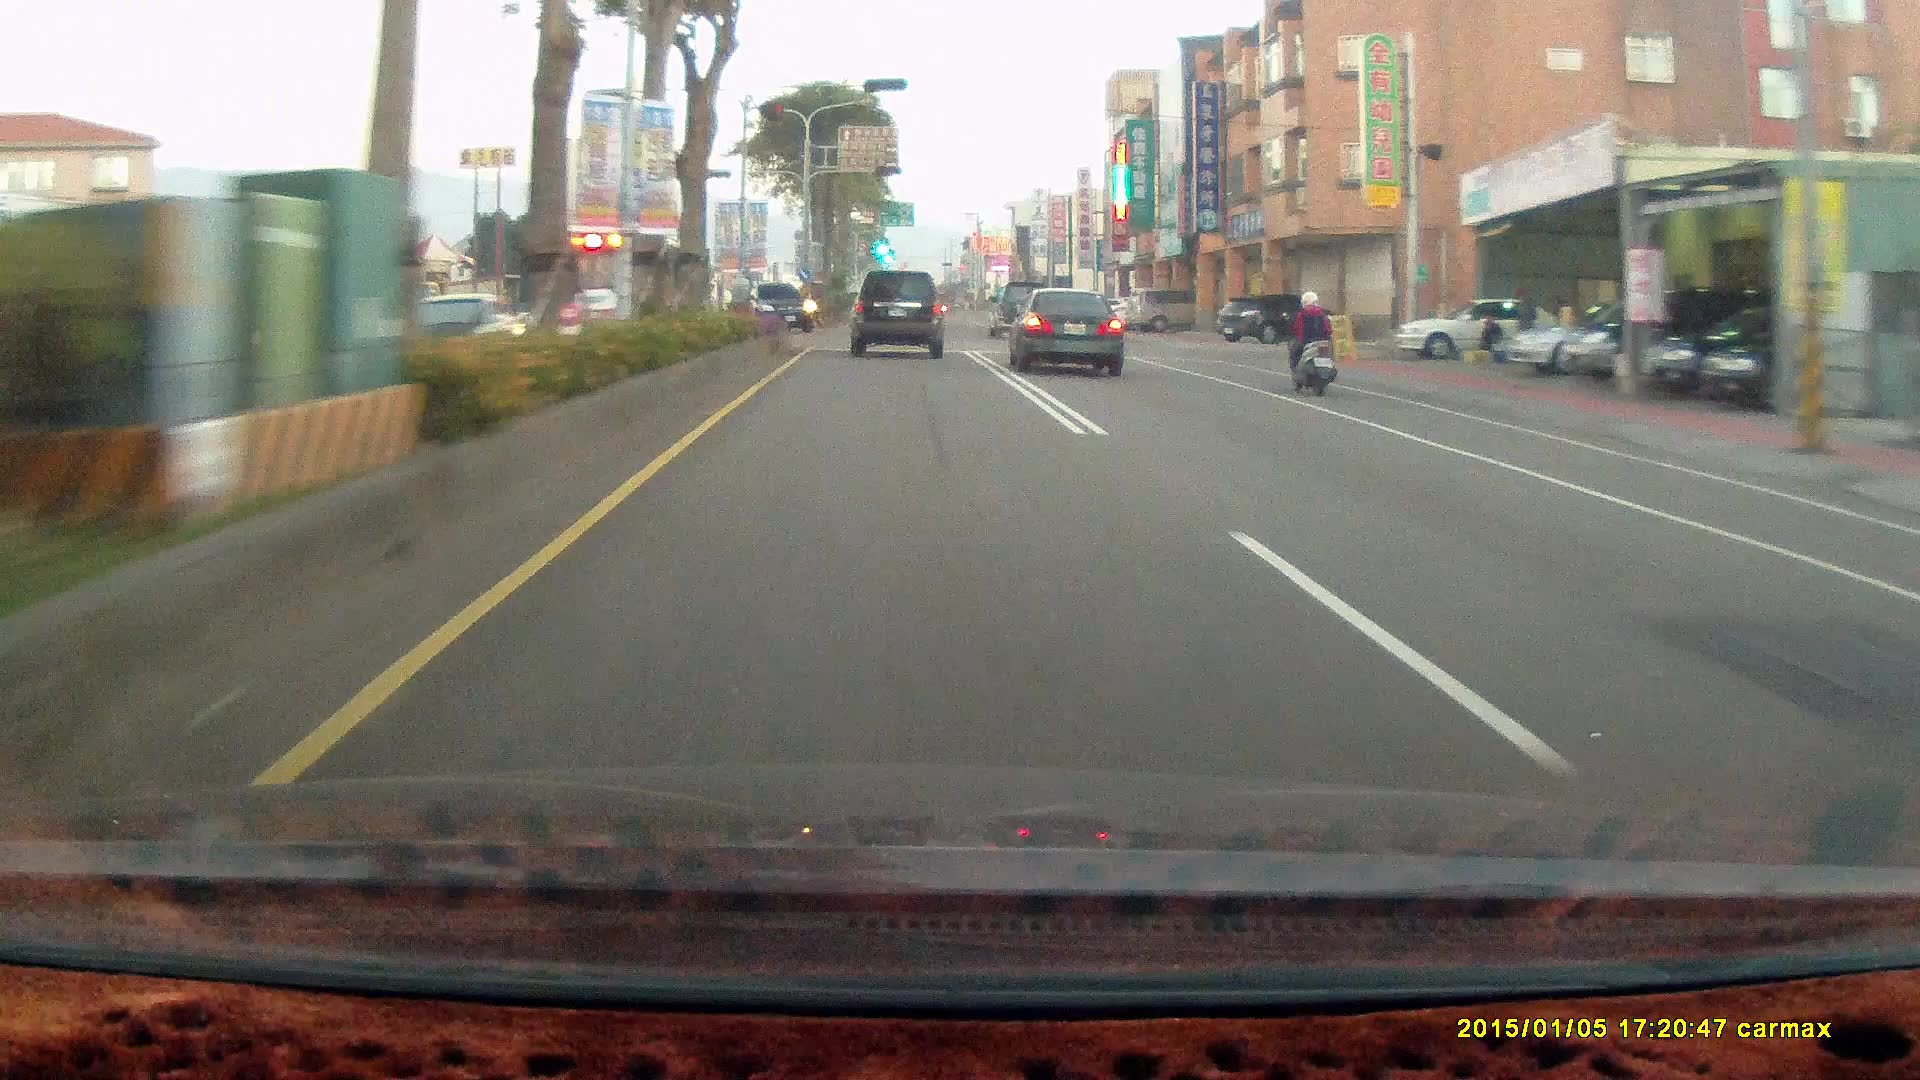pedestrian: (1511, 282, 1534, 360), (1477, 313, 1504, 363)
rider: (1275, 279, 1350, 406), (1279, 287, 1337, 394)
vehicle: (1706, 305, 1913, 414), (1640, 309, 1863, 403), (551, 228, 708, 341), (1561, 290, 1744, 382), (1508, 300, 1706, 377), (1384, 295, 1573, 370), (1390, 294, 1566, 361), (386, 291, 528, 373), (1017, 295, 1134, 391), (1003, 284, 1123, 374), (848, 277, 949, 367), (847, 271, 943, 357), (1217, 294, 1343, 349), (1212, 296, 1332, 347), (1121, 285, 1211, 334), (743, 285, 817, 336), (743, 283, 816, 333), (986, 282, 1051, 339)
